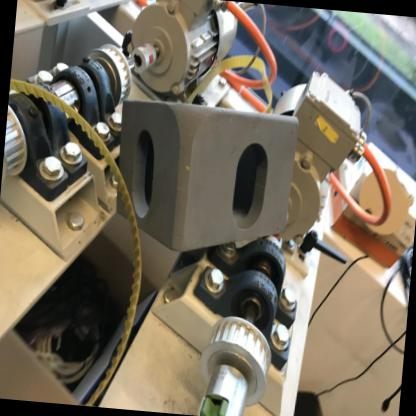CornerCasting: (107, 91, 302, 264)
